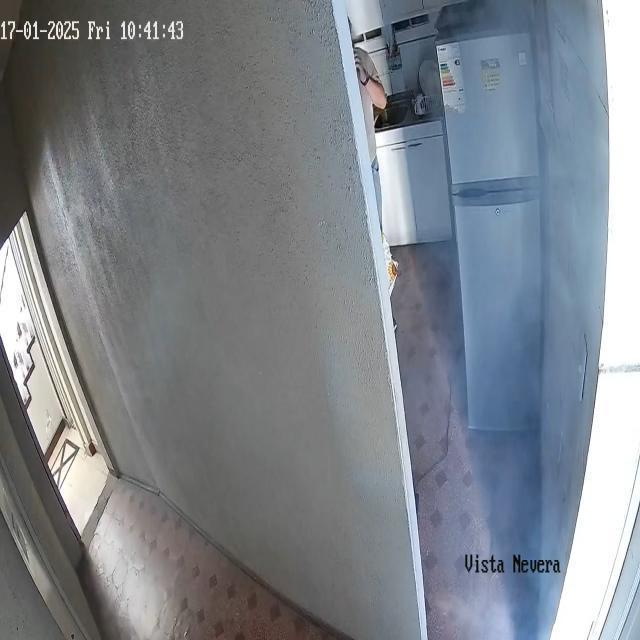fire: (427, 0, 593, 640)
